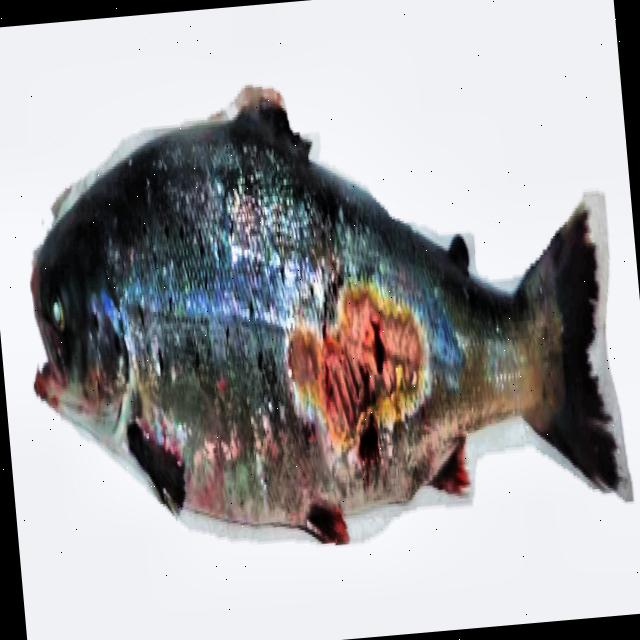mild_red: (92, 110, 548, 538)
wound: (284, 276, 434, 494)
